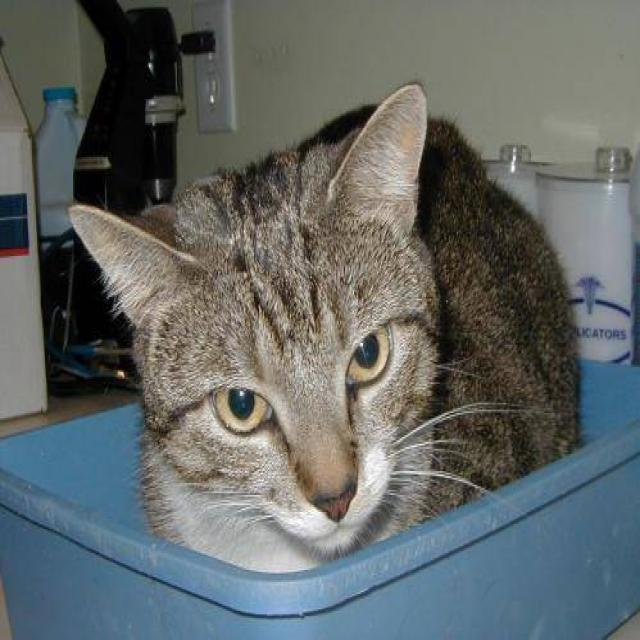cat: (66, 81, 584, 574)
